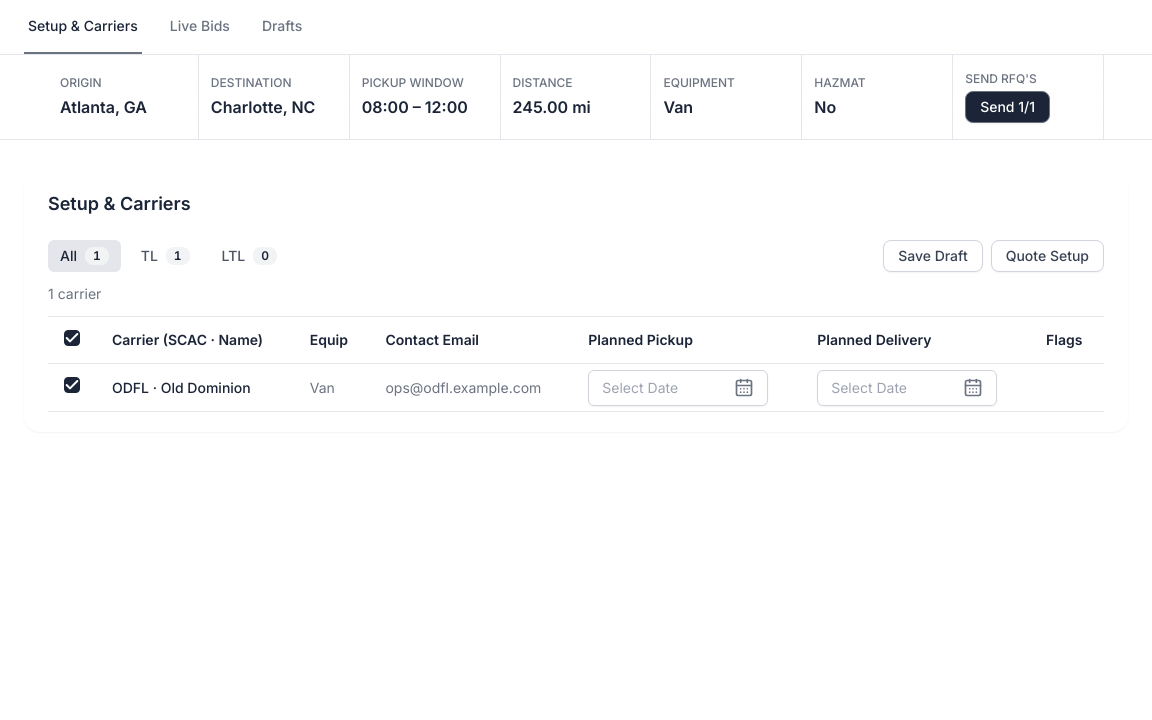
Test: SpotBoardTab › switches to the Live Bids sub-tab automatically after Confirm & Send
The width and height of the screenshot is (1152, 720).
Click the button "Send 1/1".
click(1008, 107)  # box [965,91,1050,123]
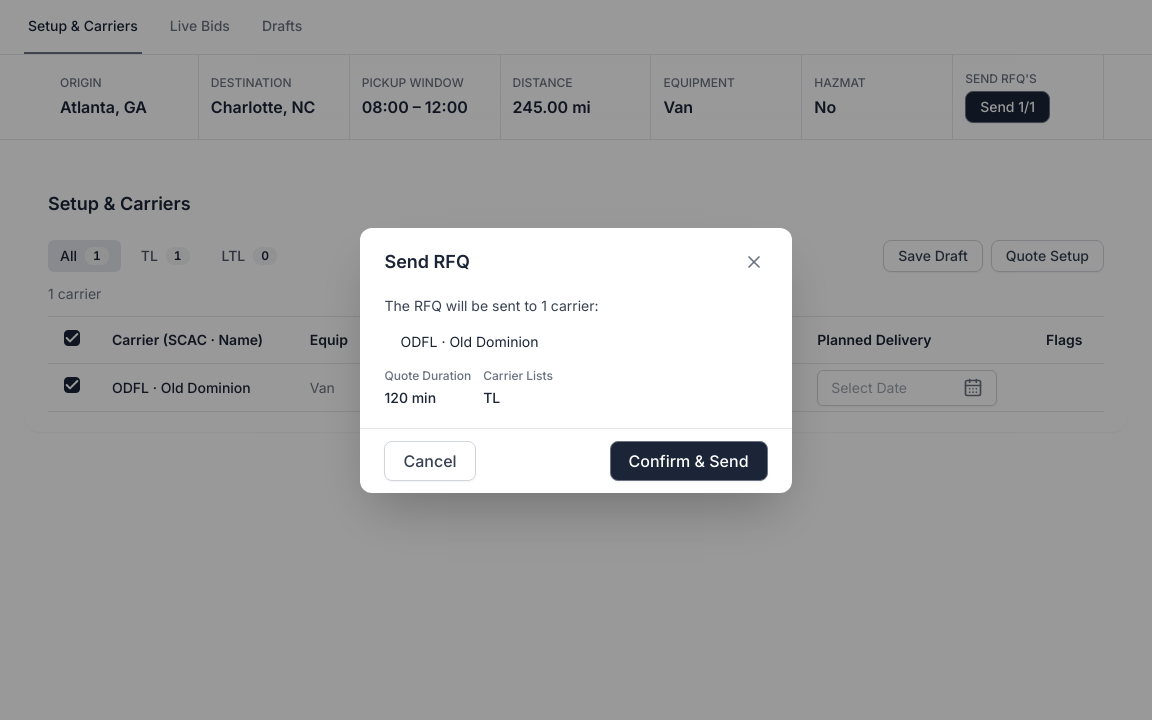
Click the button "Confirm & Send".
click(688, 460)  # box [610,440,768,480]
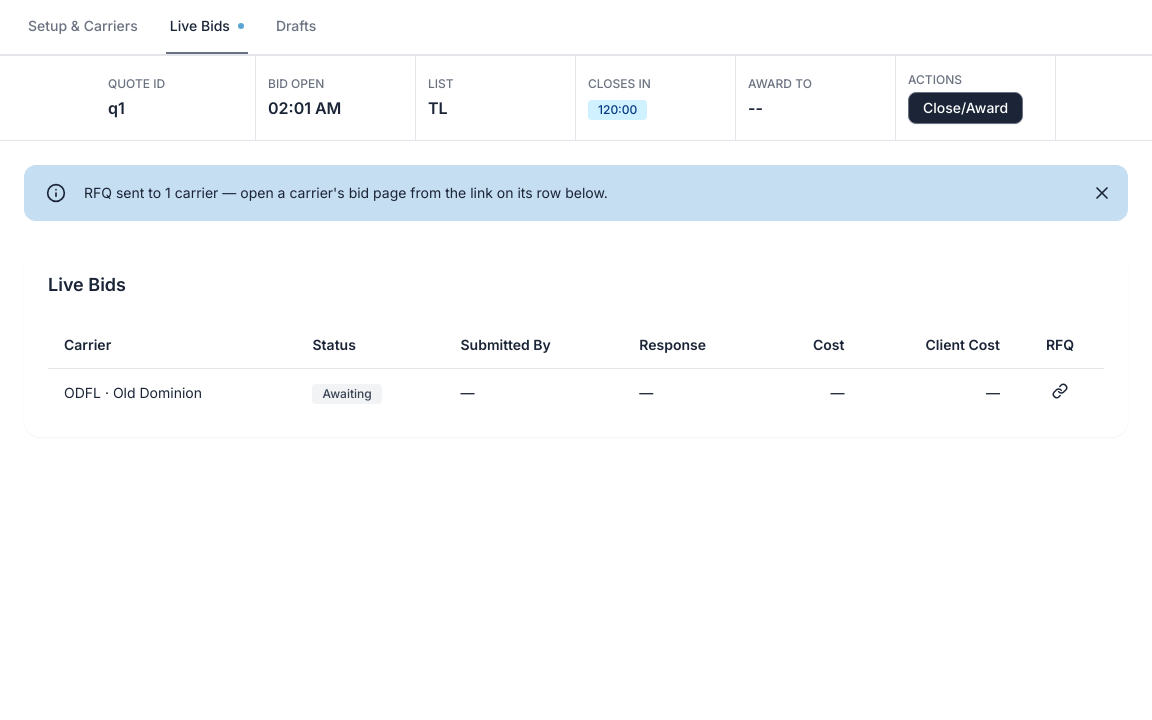
Now the button "Send 1/1" is gone
